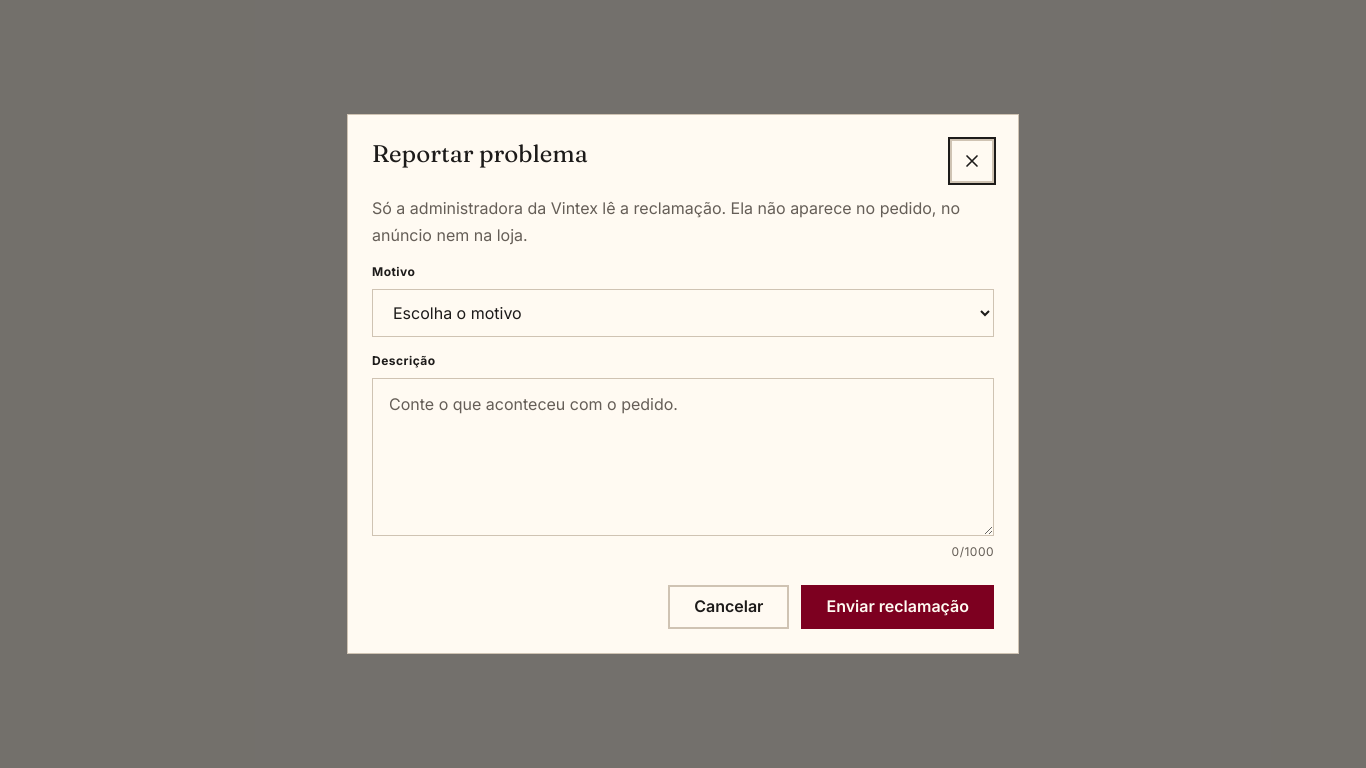
Scenario: <ReportProblemDialog /> › erro do back mostra a mensagem dele e mantém o formulário
Select "Não recebi o pedido" in the dropdown labelled "Motivo" at point(683, 313), box x1=372 y1=289 x2=994 y2=337
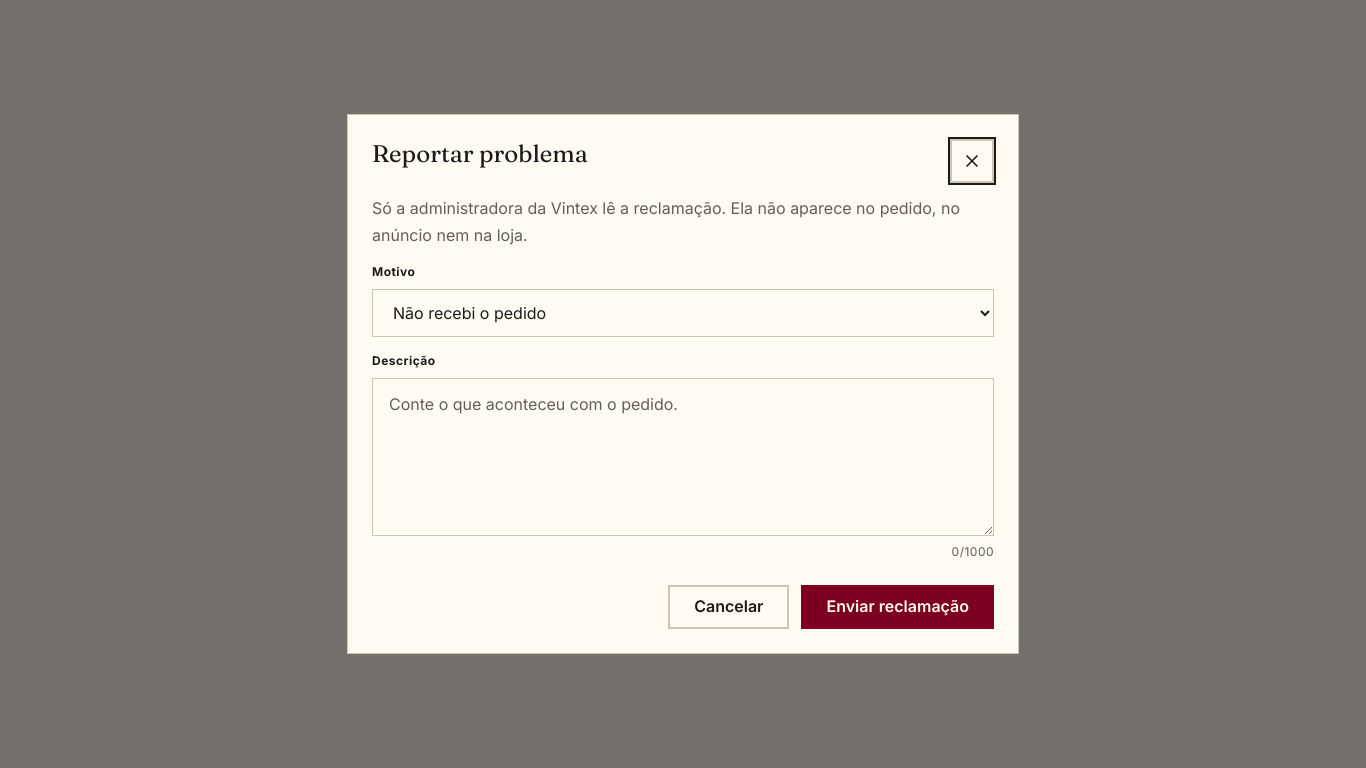
Type "Não chegou." into the text box labelled "Descrição" at point(683, 457), box x1=372 y1=378 x2=994 y2=536
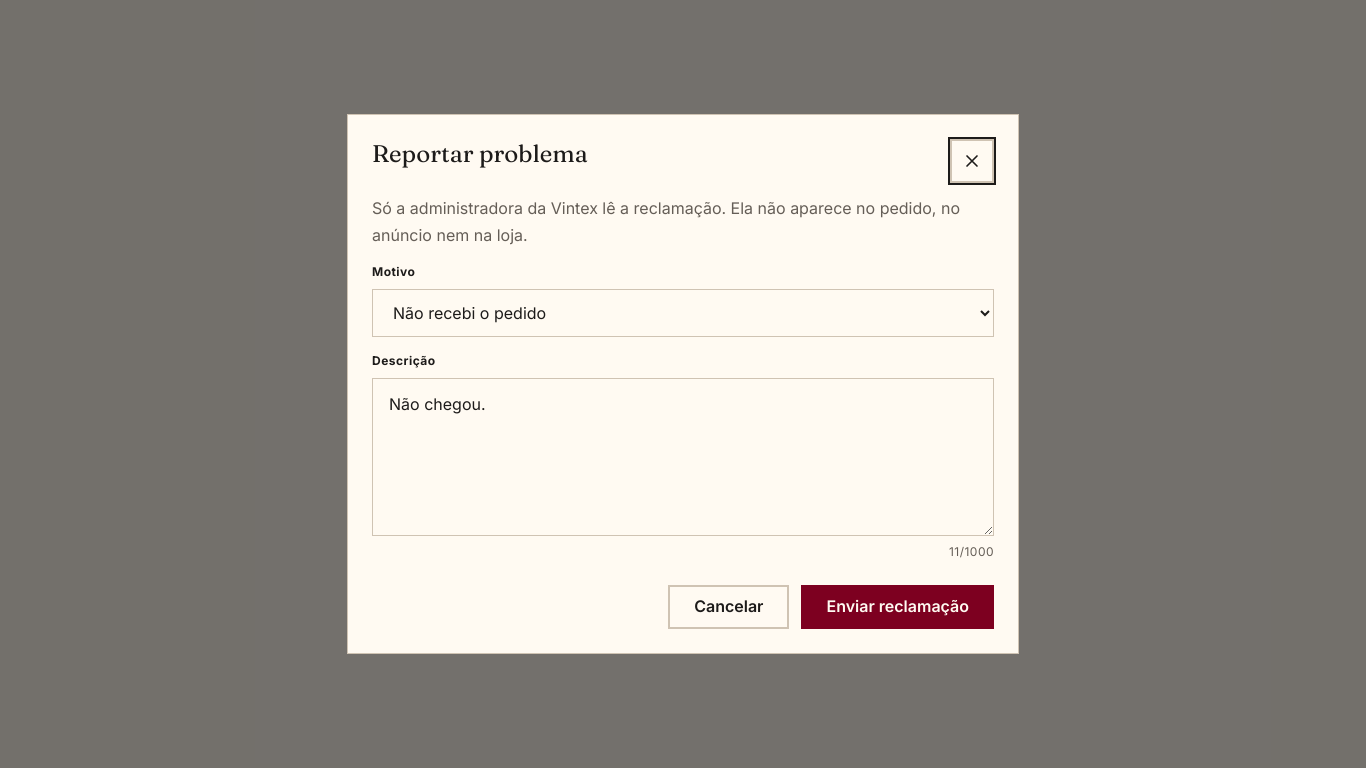
Click the button "Enviar reclamação" at point(898, 607), box x1=802 y1=585 x2=994 y2=629
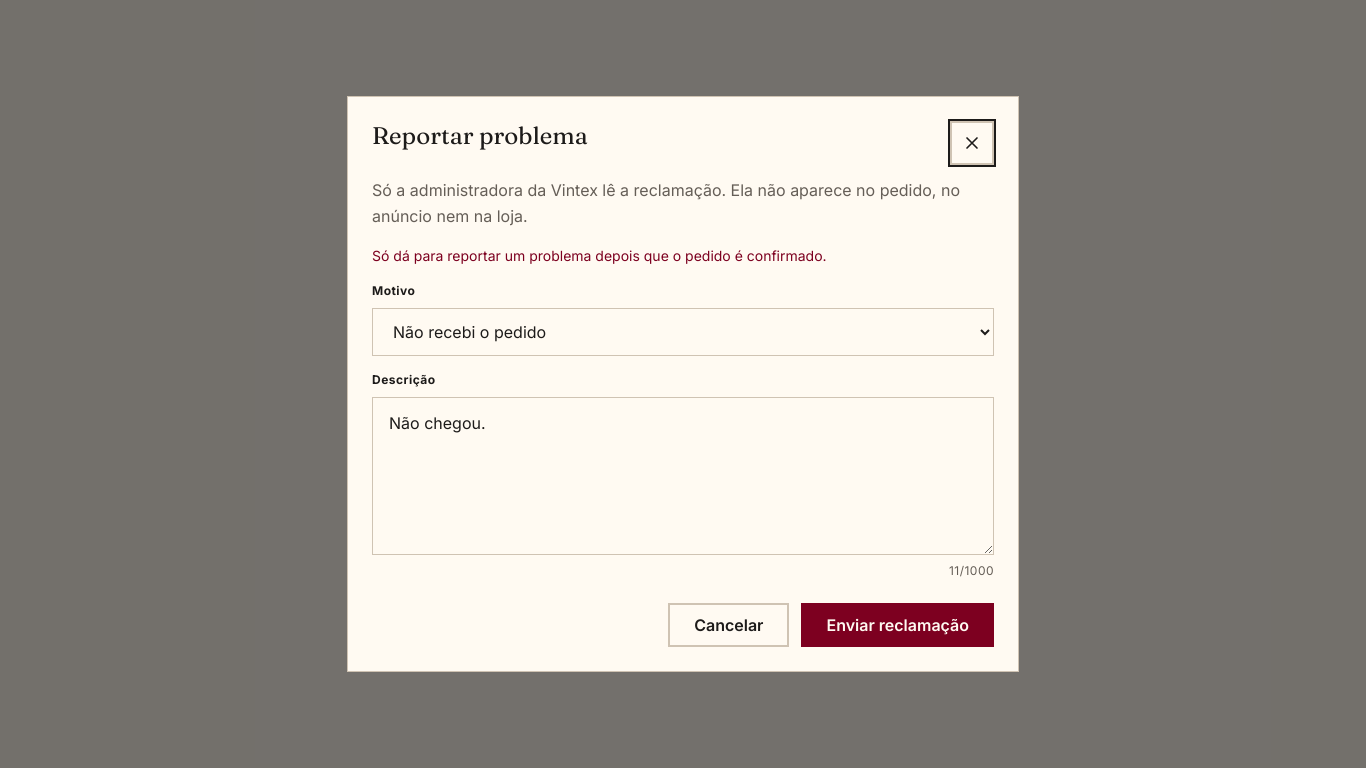
Expected: the button "Enviar reclamação" is enabled, x1=802 y1=603 x2=994 y2=647
Expected: the message reads "Só dá para reportar um problema depois que o pedido é confirmado.", x1=372 y1=247 x2=827 y2=264
